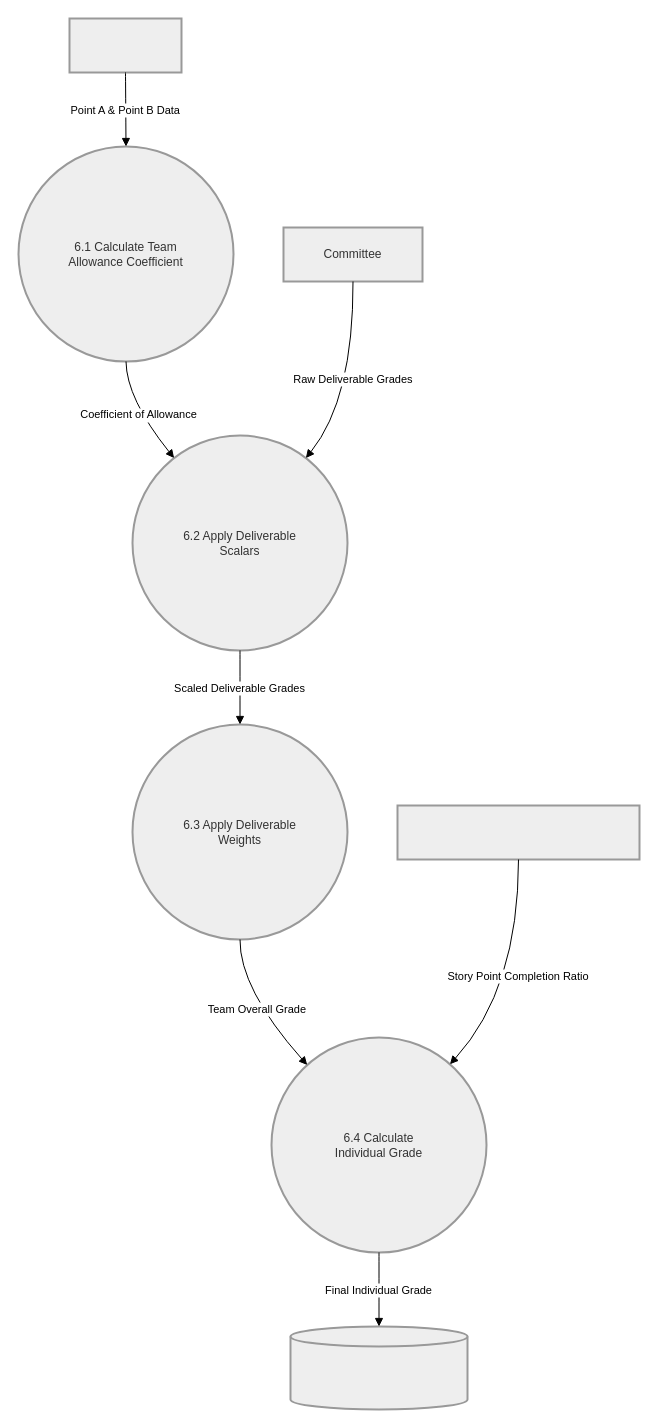
This 657x1427 diagram has some shape labels left out. The centre of each missing label's shape, as x and y in pixels:
"Advisor" belongs at point 125,45.
"D6: Student Grades DB" belongs at point 378,1367.
"JIRA / GitHub Integration" belongs at point 518,832.
